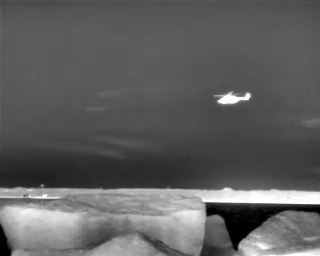HELICOPTER: (210, 85, 256, 110)
